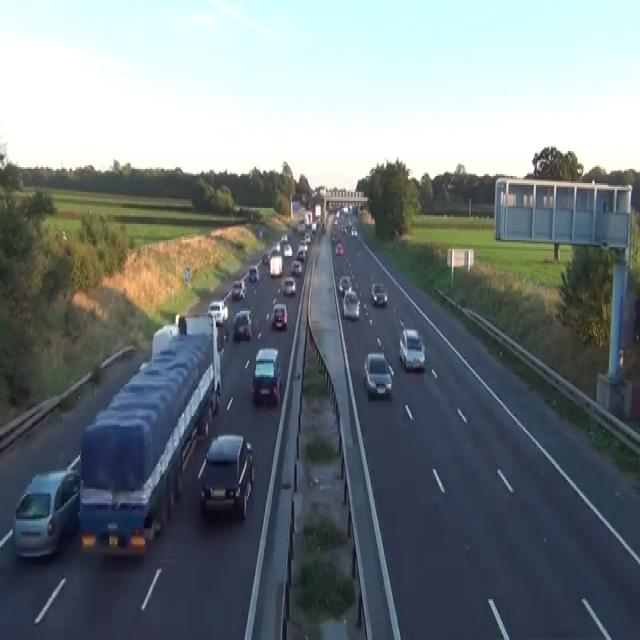Car: (13, 469, 81, 560), (197, 434, 254, 521), (251, 347, 282, 405), (363, 352, 392, 396), (399, 327, 425, 372), (151, 323, 179, 358), (233, 310, 252, 340), (207, 299, 228, 325), (342, 290, 360, 320), (370, 281, 387, 306), (272, 302, 287, 329), (66, 453, 81, 480), (269, 251, 282, 277), (231, 278, 246, 300), (281, 276, 296, 295), (338, 276, 351, 295), (296, 244, 307, 262), (248, 265, 259, 281), (291, 260, 302, 276), (55, 229, 67, 242), (376, 336, 384, 352), (283, 244, 293, 256), (271, 242, 281, 254), (335, 242, 343, 256), (303, 231, 311, 244), (262, 251, 269, 265), (331, 231, 339, 242), (300, 237, 308, 247), (297, 221, 305, 231), (340, 224, 347, 235), (280, 233, 288, 242), (311, 220, 316, 233), (350, 228, 357, 236), (342, 204, 348, 213), (259, 228, 262, 236)
Truck: (79, 311, 222, 557)
